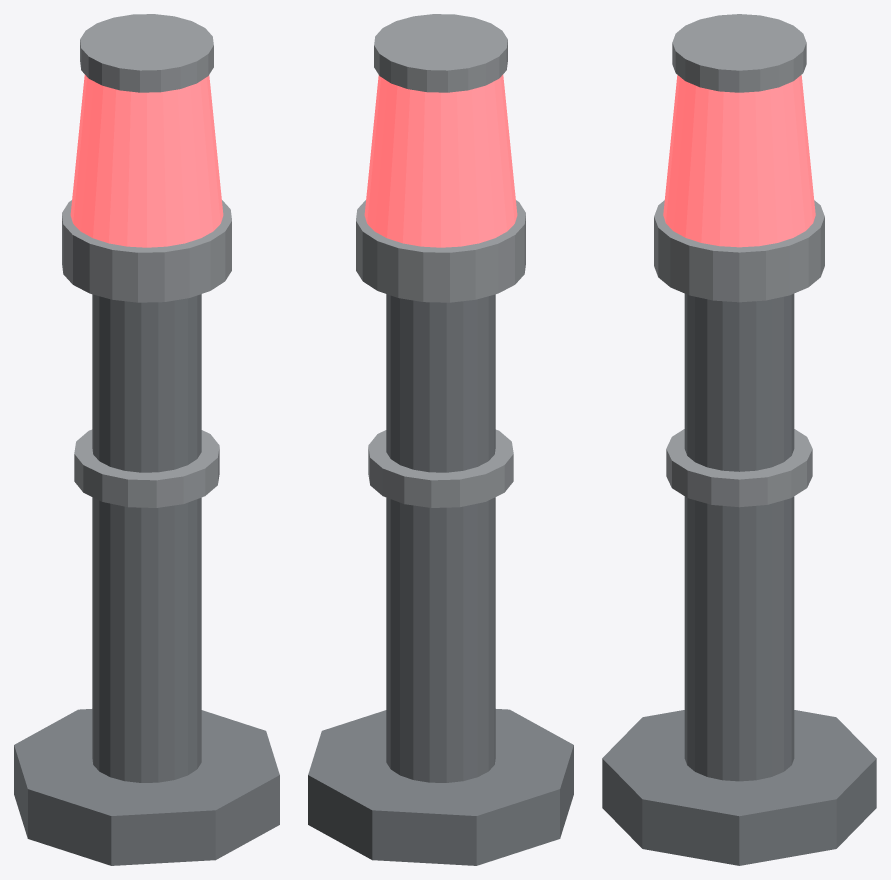
The model's file is beacon_pillar.glb.
3 renders of one model, left to right at view 1: azimuth 30°, elevation 25°; view 2: azimuth 150°, elevation 25°; view 3: azimuth 270°, elevation 25°, orthographic.
Visible parts, largest first — view 1: Cylinder.001, Cylinder, Cone, Cylinder.003, Cylinder.004, Cylinder.002; view 2: Cylinder.001, Cylinder, Cone, Cylinder.003, Cylinder.004, Cylinder.002; view 3: Cylinder.001, Cylinder, Cone, Cylinder.003, Cylinder.004, Cylinder.002.
Boxes of the visible parts, x1,y1,x2,y2 form: Cylinder.001: (92,294,201,782); Cylinder: (14,709,279,865); Cone: (70,74,223,247); Cylinder.003: (62,200,231,302); Cylinder.004: (80,14,213,92); Cylinder.002: (74,429,219,507); Cylinder.001: (386,294,495,782); Cylinder: (308,709,573,865); Cone: (364,74,517,247); Cylinder.003: (356,200,525,302); Cylinder.004: (374,14,507,92); Cylinder.002: (368,429,513,507); Cylinder.001: (684,293,794,781); Cylinder: (602,710,876,865); Cone: (663,75,815,247); Cylinder.003: (654,200,824,302); Cylinder.004: (672,14,806,92); Cylinder.002: (666,429,812,507).
Size of the model in its own units: 0.9 by 2.77 by 0.9.
